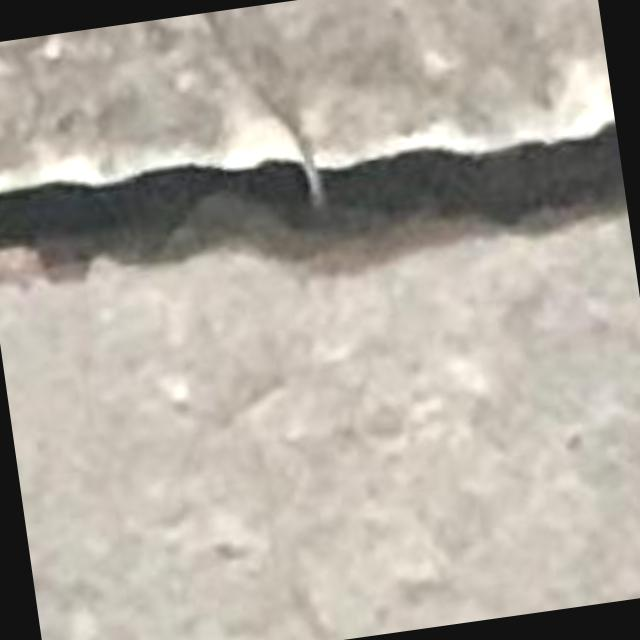crack: (0, 126, 626, 283)
